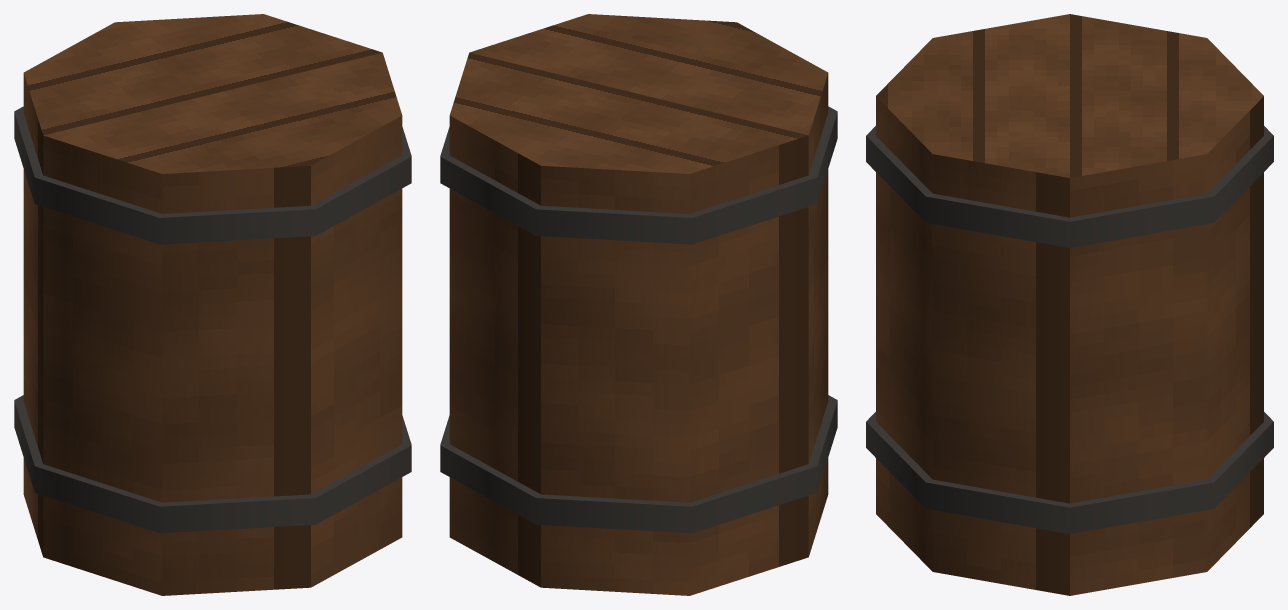
File: barril.glb
3 renders of one model, left to right at view 1: azimuth 30°, elevation 25°; view 2: azimuth 150°, elevation 25°; view 3: azimuth 270°, elevation 25°, orthographic.
Visible parts, largest first — view 1: barril; view 2: barril; view 3: barril.
Part boxes in pixels (x1,y1,x2,y2): barril: [14, 14, 411, 595]; barril: [440, 14, 837, 595]; barril: [866, 14, 1273, 595].
Bounding box in the file's own units: 0.84 × 0.95 × 0.84.
Materials: 2 (1 with a texture image).
